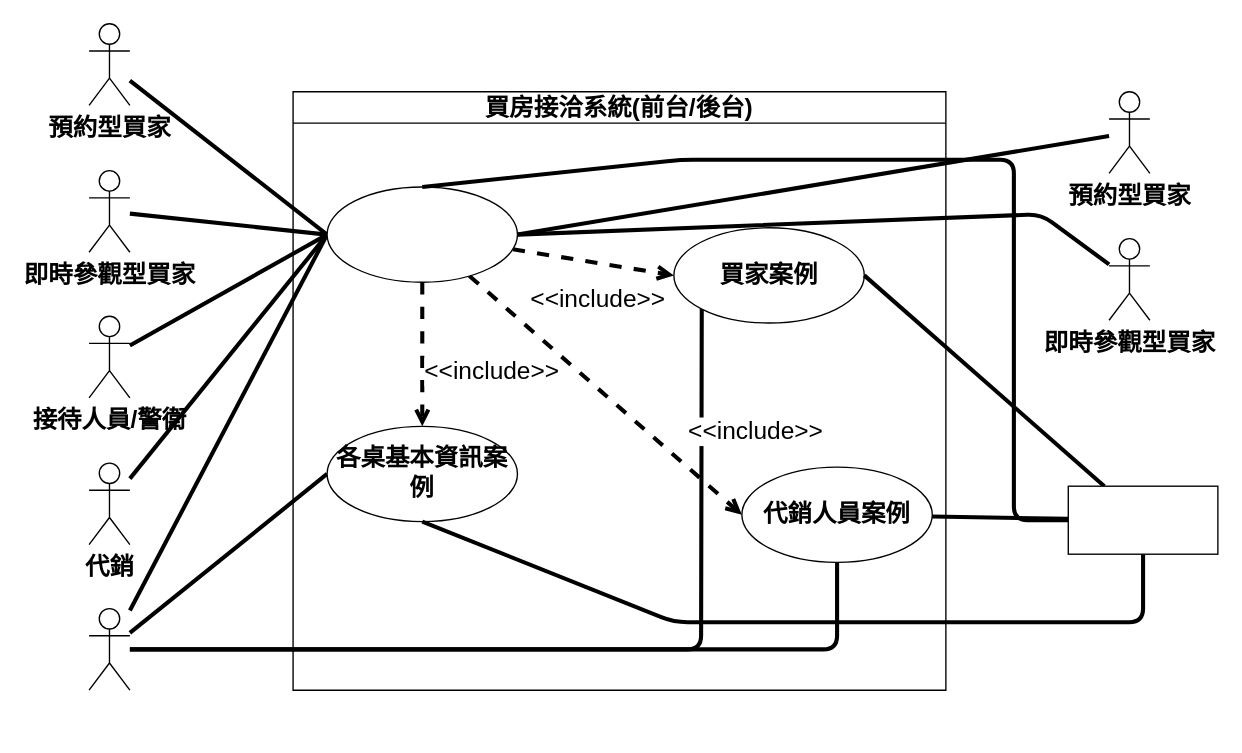
Image size: 1242x753. Some labels were removed from this diagram. Each missing label, with the centre of its shape:
"<<actor>> Line Bot" goes at point (1142, 519).
"代銷主管" goes at point (109, 648).
"預約時段申請案例" goes at point (421, 234).
